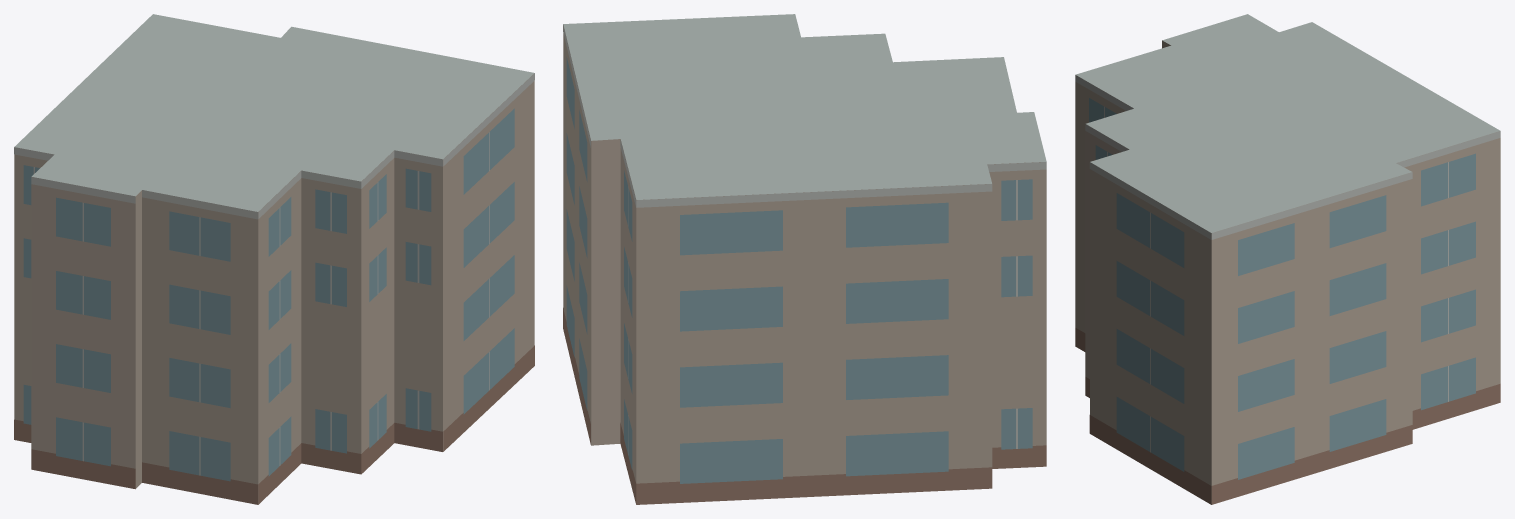
Rendered from survey-upis-32523728.glb.
3 renders of one model, left to right at view 1: azimuth 30°, elevation 25°; view 2: azimuth 150°, elevation 25°; view 3: azimuth 270°, elevation 25°, orthographic. The views are drawn at different scales.
Parts seen in each view (by area): view 1: survey-upis-32523728.tmp; view 2: survey-upis-32523728.tmp; view 3: survey-upis-32523728.tmp.
Part boxes in pixels (x1,y1,x2,y2): survey-upis-32523728.tmp: (14, 14, 534, 504); survey-upis-32523728.tmp: (563, 14, 1046, 504); survey-upis-32523728.tmp: (1075, 14, 1500, 504).
Bounding box in the file's own units: 16.61 × 9.6 × 13.63.
